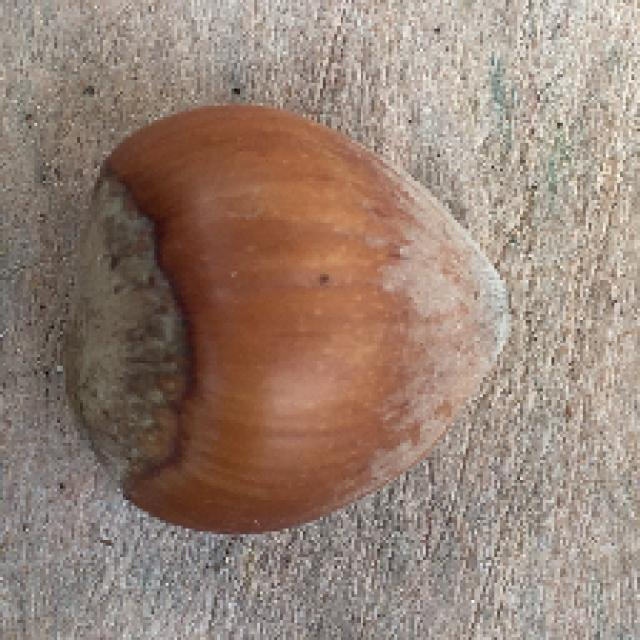qualityHazelnut: (63, 97, 522, 531)
